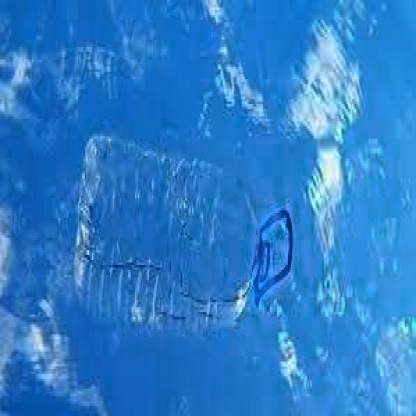pbottle: (67, 126, 294, 344)
